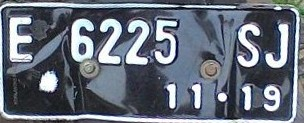plate: (1, 2, 299, 123)
